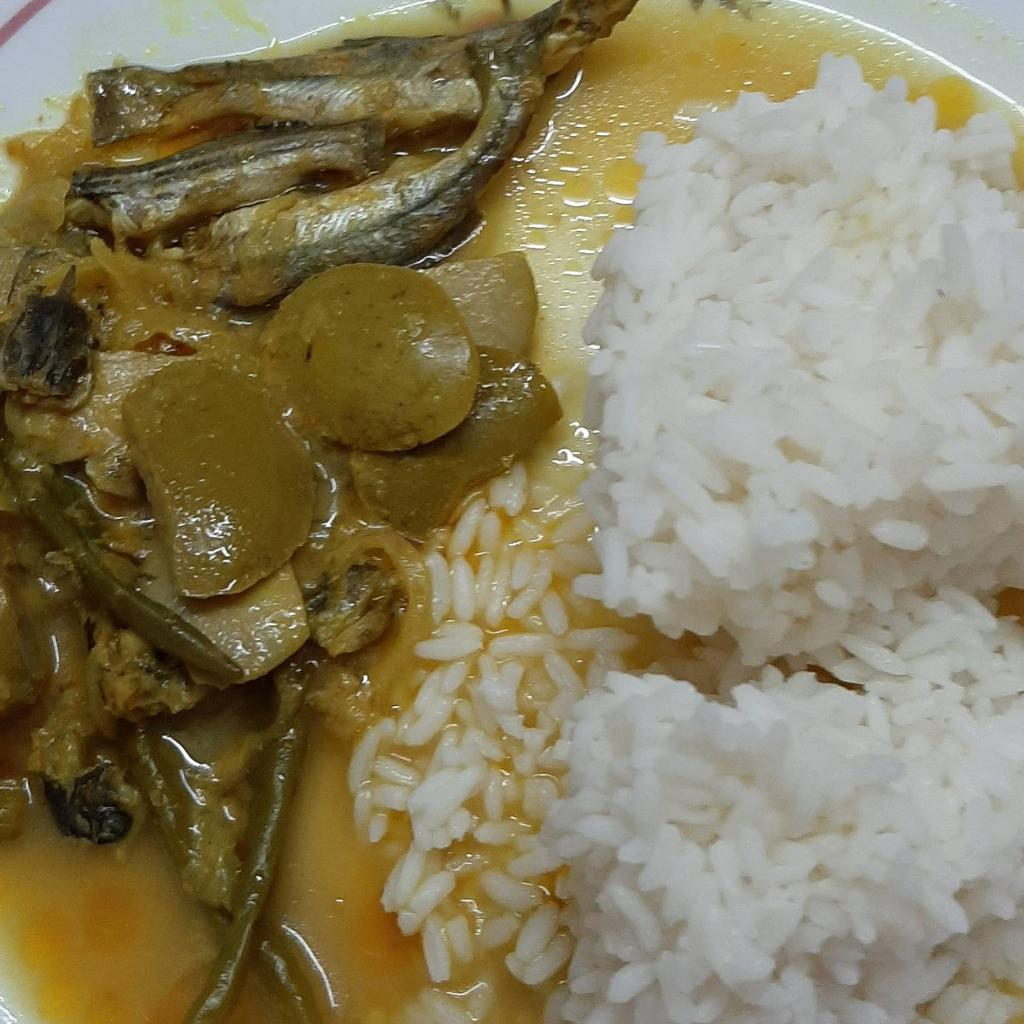dundol: (119, 251, 564, 691)
fish: (0, 0, 641, 912)
rice: (347, 47, 1023, 1023)
